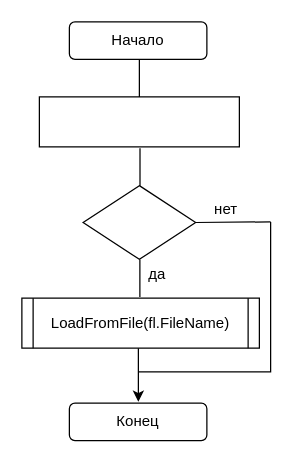
Image size: 294x463. Some labels were removed from this diagram. Here are the shapes that lost their labels. From the top down, the centre of each, then its label:
point 138,121: fl = new OpenFileDialog() result = fl.ShowDialod()
point 139,221: result == true
